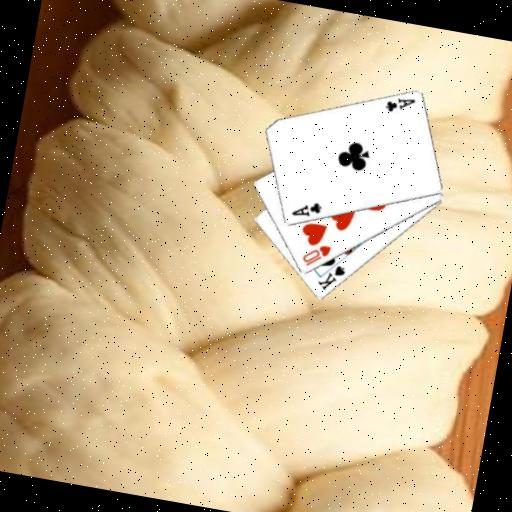10H: (298, 239, 333, 271)
AC: (288, 195, 324, 222), (381, 91, 417, 117)
KS: (313, 259, 348, 296)
